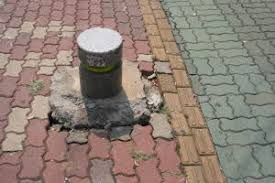guide_blocks: (141, 1, 200, 111), (173, 111, 219, 183)
